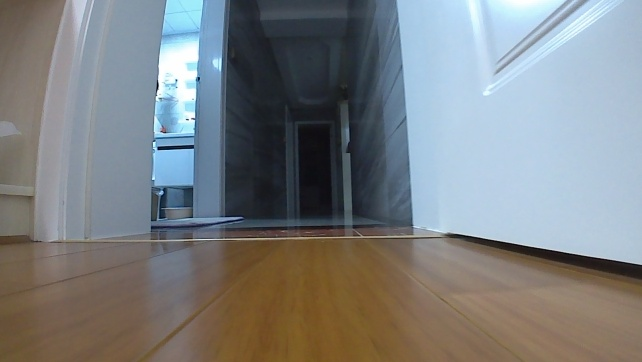blanket: (149, 214, 246, 230)
